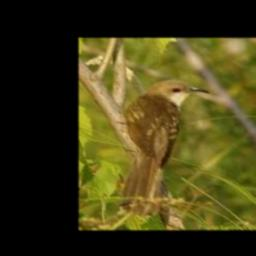Cuckoo: (117, 79, 209, 217)
